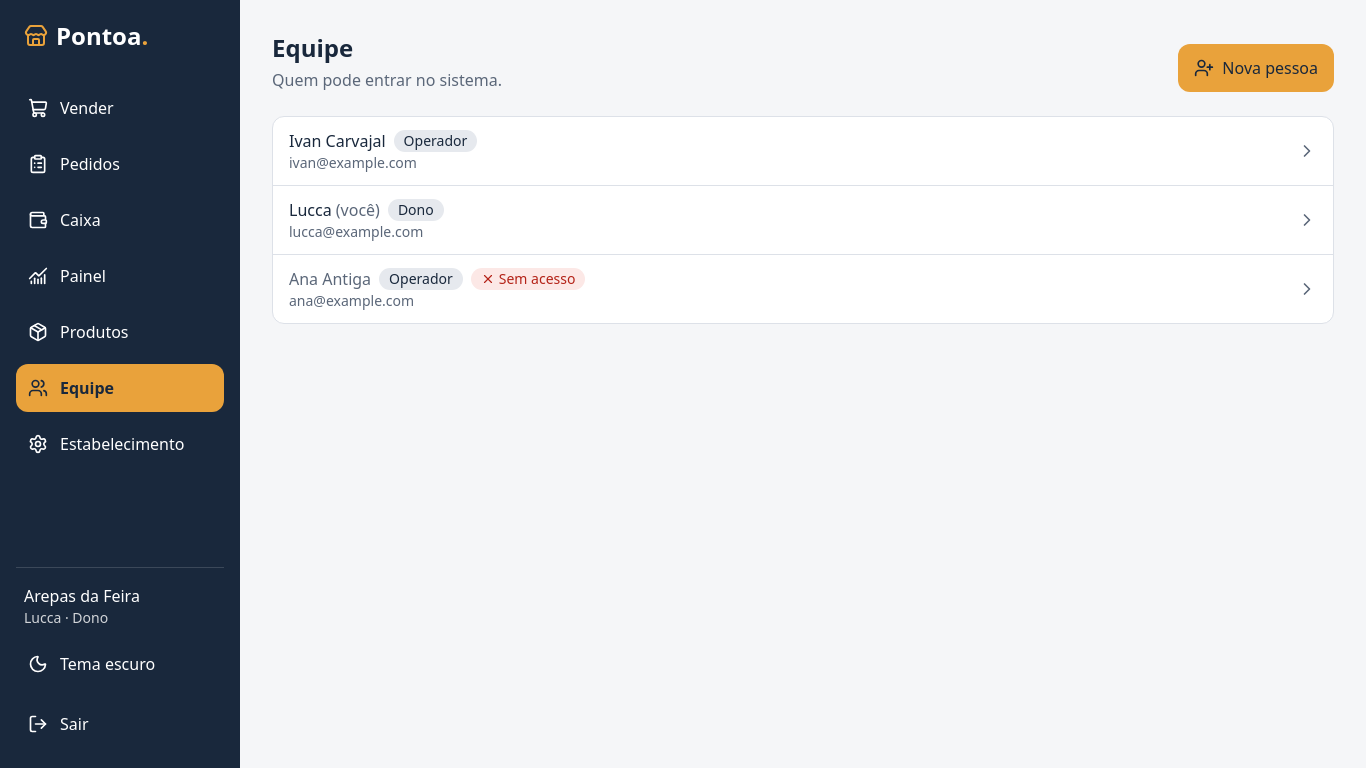
Scenario: TeamPage › does not let the owner lock themselves out
Click the button with aria-label "Editar Lucca": (310, 210) [273, 186, 1333, 254]
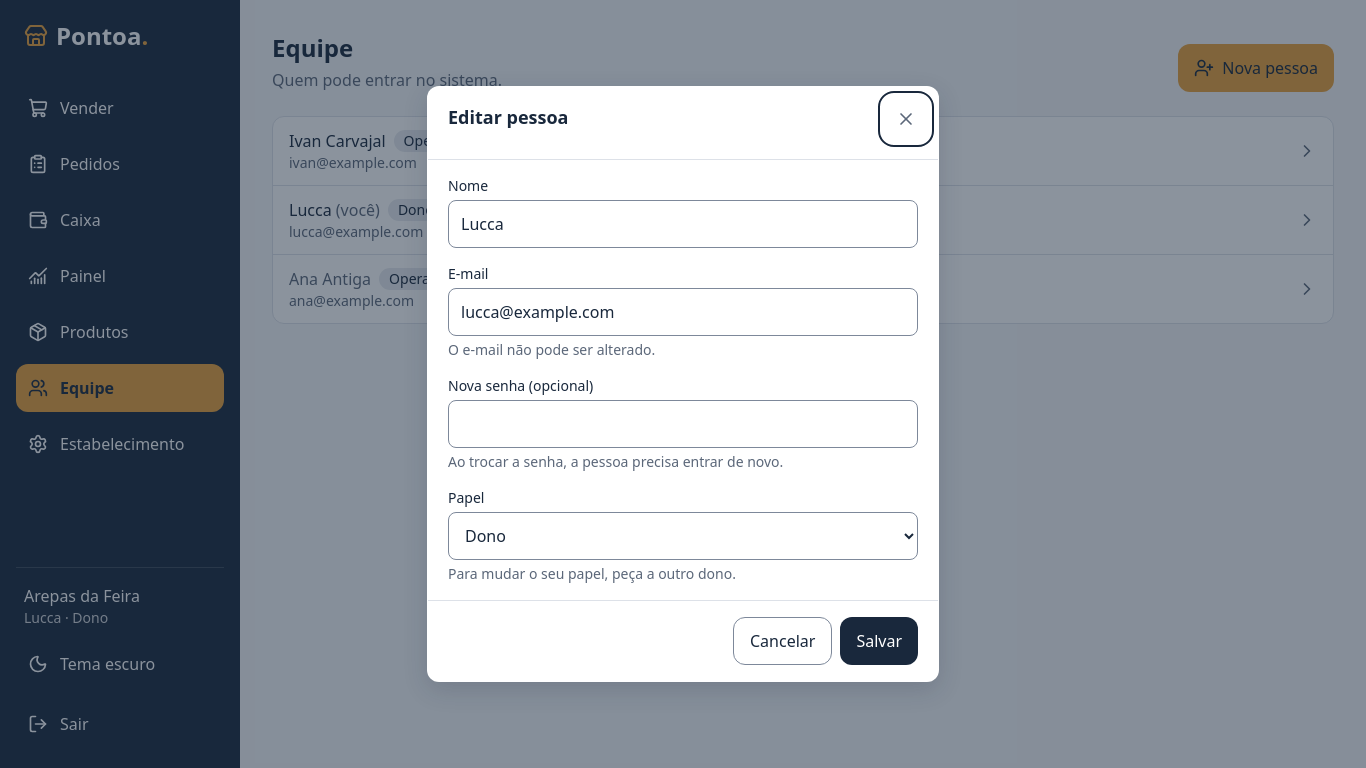
Result: the dropdown labelled "Papel" is disabled at [448, 512, 918, 560]
